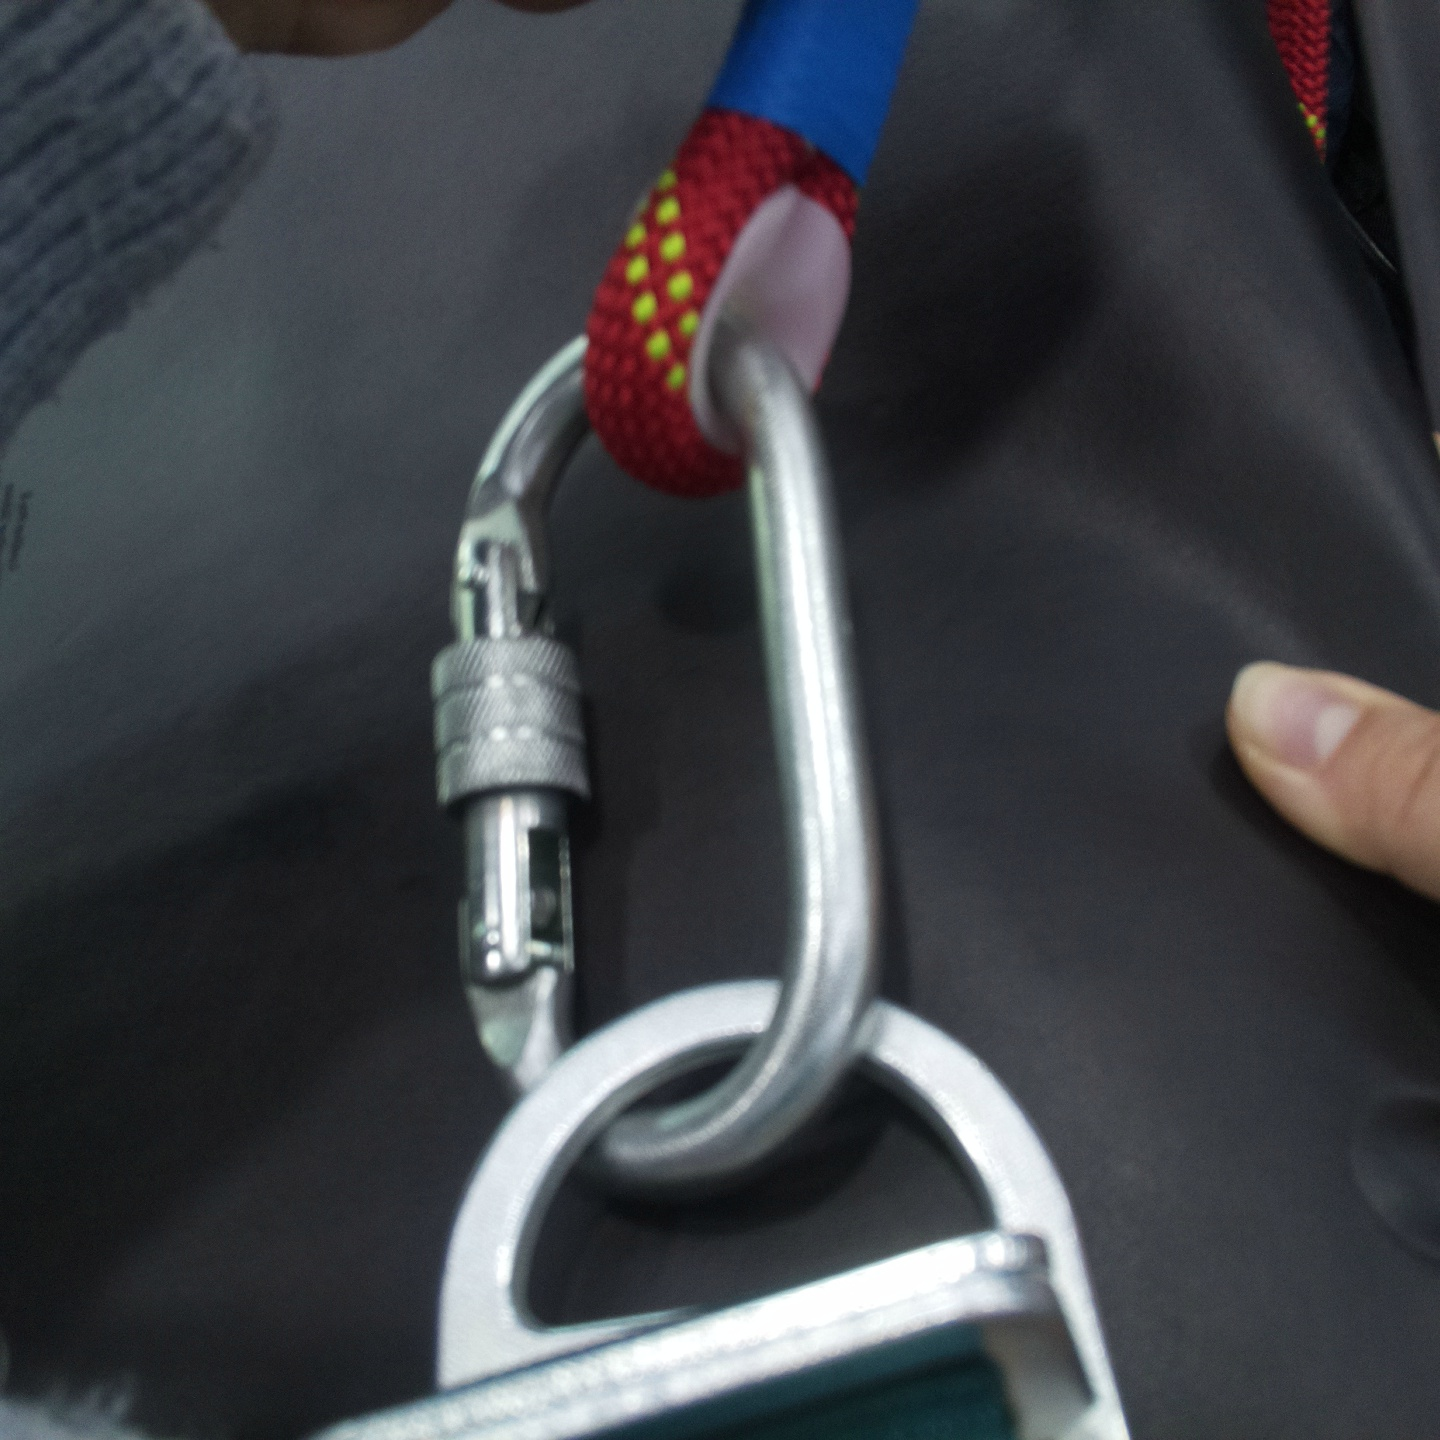SUCCESS: (427, 572, 1102, 1396)
